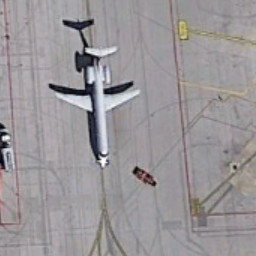Airplane: (38, 36, 150, 169)
